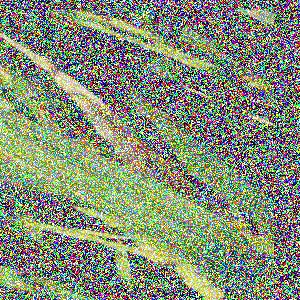Leaf_Blast: (0, 125, 64, 187)
